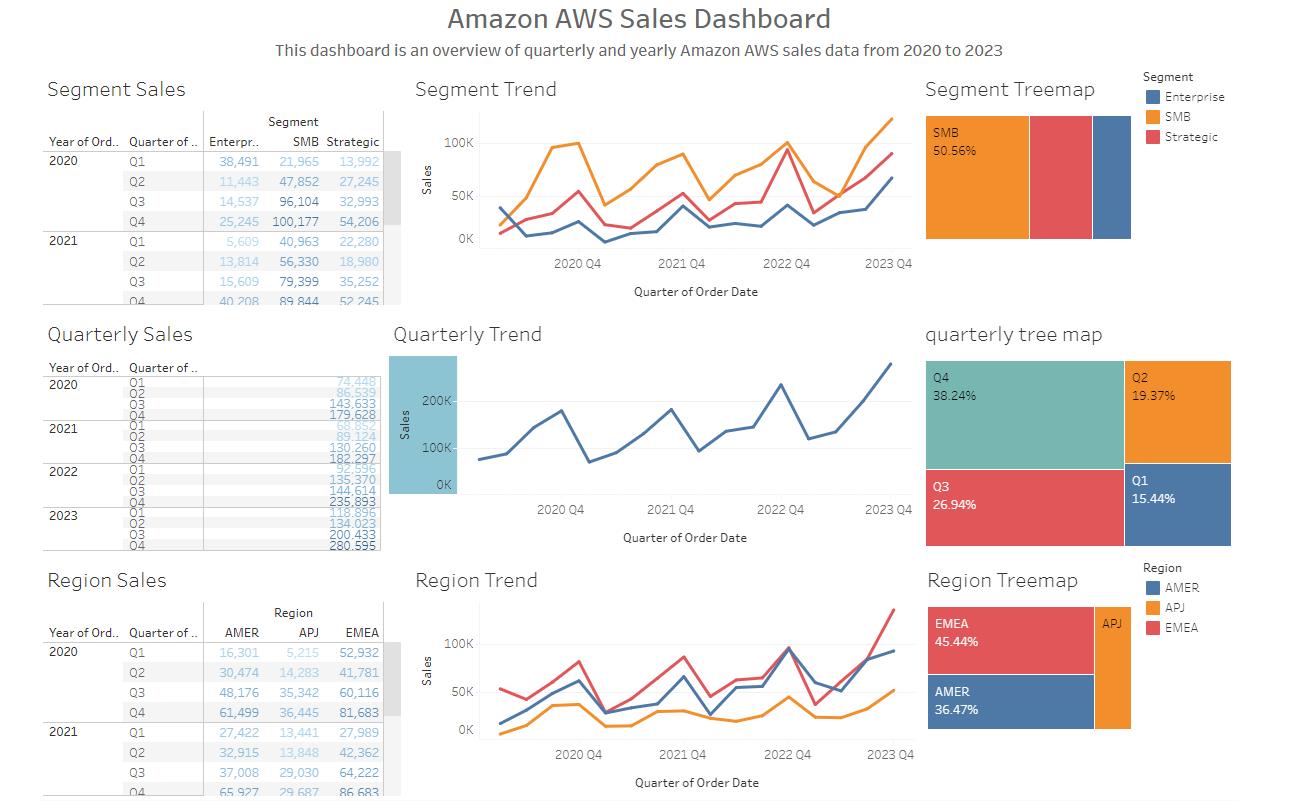

What the dashboard file says about the page in this screenshot:
{"tool":"tableau","page":{"name":"Dashboard 1","canvas":[1200,800],"ordinal":0},"visuals":[{"type":"text","box":[0,0,1200,33]},{"type":"text","box":[8,8,592,784]},{"type":"text","box":[600,8,592,784]},{"type":"text","box":[0,33,1200,31]},{"type":"worksheet","title":"Segment Sales","mark":"Automatic","rows":["Order Date","Order Date"],"cols":["Segment"],"box":[0,64,368,245.3]},{"type":"worksheet","title":"Segment Trend","mark":"Automatic","rows":["Sales"],"cols":["Order Date"],"box":[368,64,510,245.3]},{"type":"worksheet","title":"Segment Treemap","mark":"Automatic","box":[878,64,222,245.3]},{"type":"legend","title":"Segment Trend","param":"[federated.1k436el0rgxmsi1d2nkkg1753t4z].[none:Segment:nk]","box":[1100,64,100,245.3]},{"type":"worksheet","title":"Quarterly Sales","mark":"Automatic","rows":["Order Date","Order Date"],"box":[0,309.3,346,245.3]},{"type":"worksheet","title":"Quarterly Trend","mark":"Automatic","rows":["Sales"],"cols":["Order Date"],"box":[346,309.3,532,245.3]},{"type":"worksheet","title":"quarterly tree map","mark":"Automatic","box":[878,309.3,322,245.3]},{"type":"worksheet","title":"Region Sales","mark":"Automatic","rows":["Order Date","Order Date"],"cols":["Region"],"box":[0,554.7,368,245.3]},{"type":"worksheet","title":"Region Trend","mark":"Automatic","rows":["Sales"],"cols":["Order Date"],"box":[368,554.7,512,245.3]},{"type":"worksheet","title":"Region Treemap","mark":"Automatic","box":[880,554.7,220,245.3]},{"type":"legend","title":"Region Trend","param":"[federated.1k436el0rgxmsi1d2nkkg1753t4z].[none:Region:nk]","box":[1100,554.7,100,245.3]}]}

Visuals, with their boxes on the page's 1200x800 design canvas (x1, y1, x2, y2). These are canvas units, not pixel positions in the 1289x801 screenshot, which may show the page scaled, cropped or inside an application window:
text: 0 0 1200 33
text: 8 8 600 792
text: 600 8 1192 792
text: 0 33 1200 64
"Segment Sales" worksheet: 0 64 368 309
"Segment Trend" worksheet: 368 64 878 309
"Segment Treemap" worksheet: 878 64 1100 309
"Segment Trend" legend: 1100 64 1200 309
"Quarterly Sales" worksheet: 0 309 346 555
"Quarterly Trend" worksheet: 346 309 878 555
"quarterly tree map" worksheet: 878 309 1200 555
"Region Sales" worksheet: 0 555 368 800
"Region Trend" worksheet: 368 555 880 800
"Region Treemap" worksheet: 880 555 1100 800
"Region Trend" legend: 1100 555 1200 800
